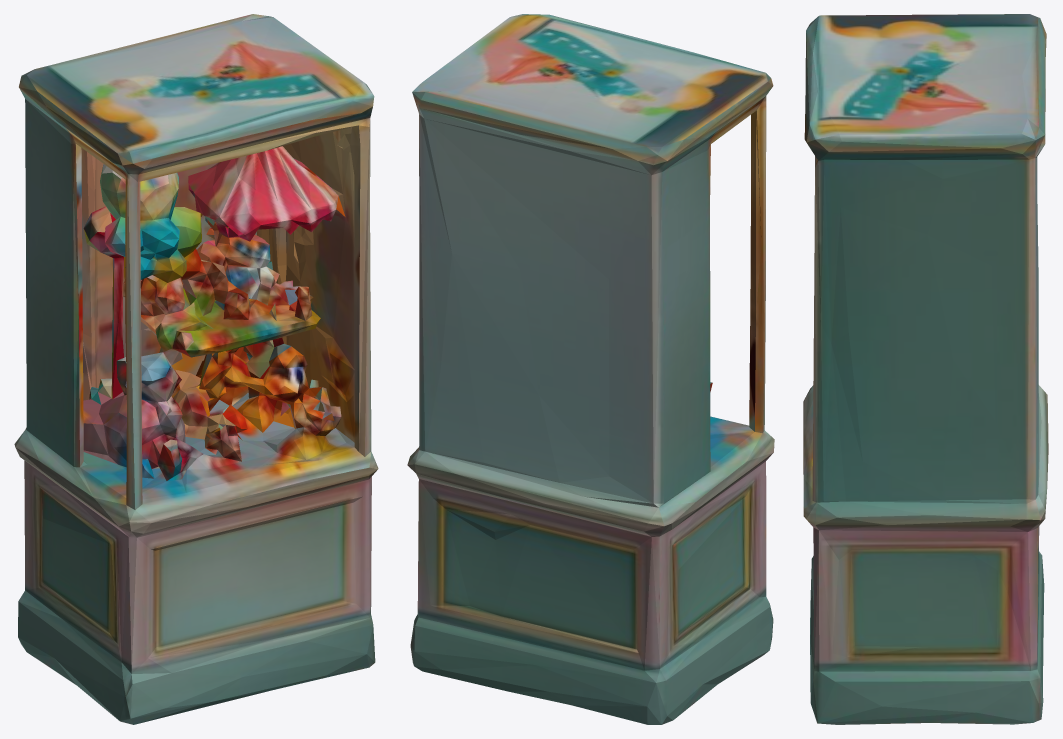
Rendered from prize_cabinet.glb.
3 renders of one model, left to right at view 1: azimuth 30°, elevation 25°; view 2: azimuth 150°, elevation 25°; view 3: azimuth 270°, elevation 25°, orthographic. The views are drawn at different scales.
Parts seen in each view (by area): view 1: textured_mesh.obj; view 2: textured_mesh.obj; view 3: textured_mesh.obj.
Boxes of the visible parts, left/top/right/bottom form: textured_mesh.obj: left=14, top=14, right=378, bottom=724; textured_mesh.obj: left=407, top=14, right=774, bottom=724; textured_mesh.obj: left=803, top=14, right=1048, bottom=724.
Bounding box in the file's own units: 0.8572 × 1.8 × 0.6751.
Materials: 1 (1 with a texture image).
